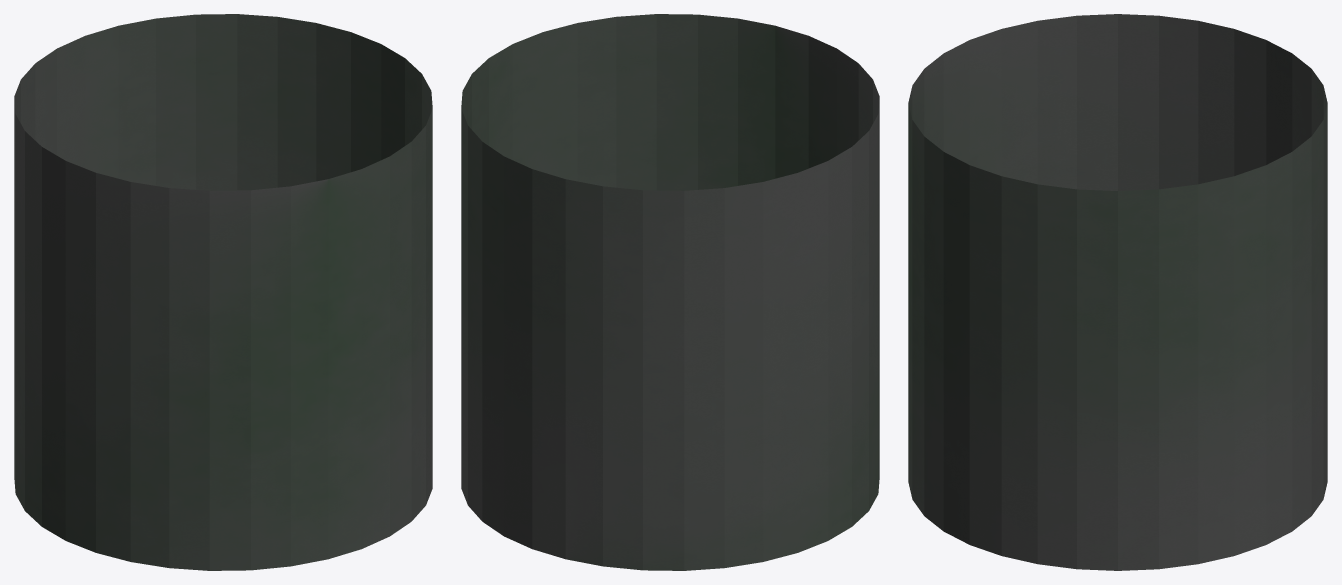
File: well.obj
The picture shows the model from 3 angles, left to right: view 1: azimuth 30°, elevation 25°; view 2: azimuth 150°, elevation 25°; view 3: azimuth 270°, elevation 25°; orthographic projection.
Visible parts, largest first — view 1: 円柱; view 2: 円柱; view 3: 円柱.
Part boxes in pixels (<box>): 円柱: <box>14,14,432,570</box>; 円柱: <box>461,14,879,570</box>; 円柱: <box>908,14,1327,570</box>.
Size of the model in its own units: 2 by 2 by 2.
1 material, 1 textured.
